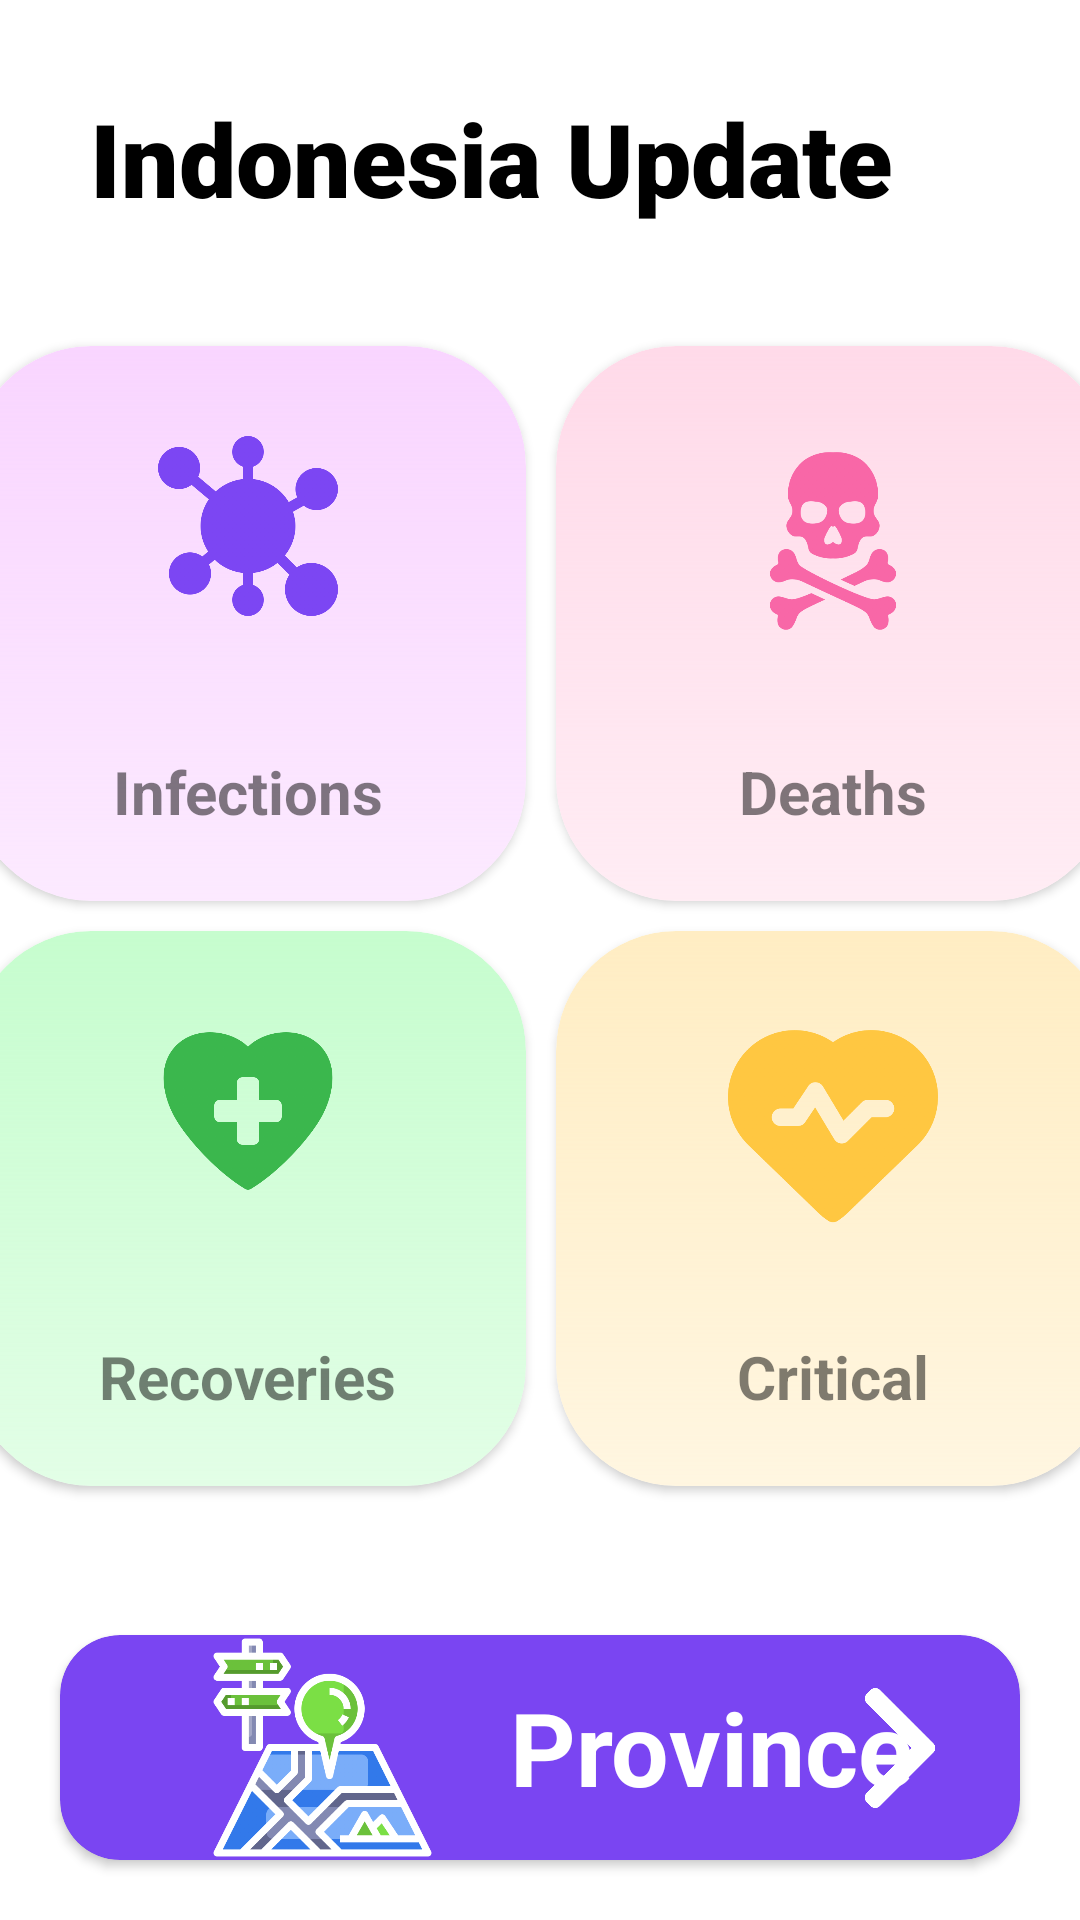

Where icons sit on this 1080w x 1920h app screen, as (x1, y1, x2, y2):
skeleton: (770, 452, 896, 630)
trave: (213, 1638, 432, 1857)
virus: (158, 436, 338, 616)
